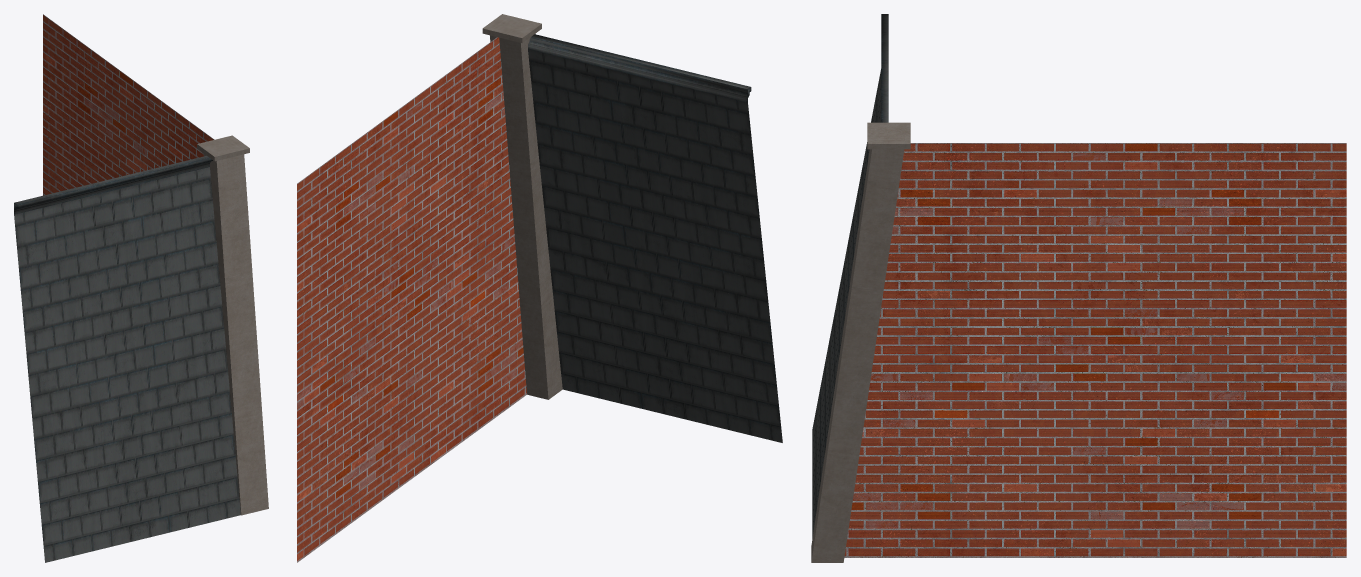
Rendered from House_02_Roof_03.fbx.
The picture shows the model from 3 angles, left to right: view 1: azimuth 30°, elevation 25°; view 2: azimuth 150°, elevation 25°; view 3: azimuth 270°, elevation 25°; orthographic projection. The views are drawn at different scales.
Visible parts, largest first — view 1: House_02_Roof_03; view 2: House_02_Roof_03; view 3: House_02_Roof_03.
Boxes of the visible parts, bbox=[...] form: House_02_Roof_03: bbox=[14, 14, 268, 562]; House_02_Roof_03: bbox=[297, 14, 782, 562]; House_02_Roof_03: bbox=[811, 14, 1346, 562].
Size of the model in its own units: 211 by 305 by 351.
